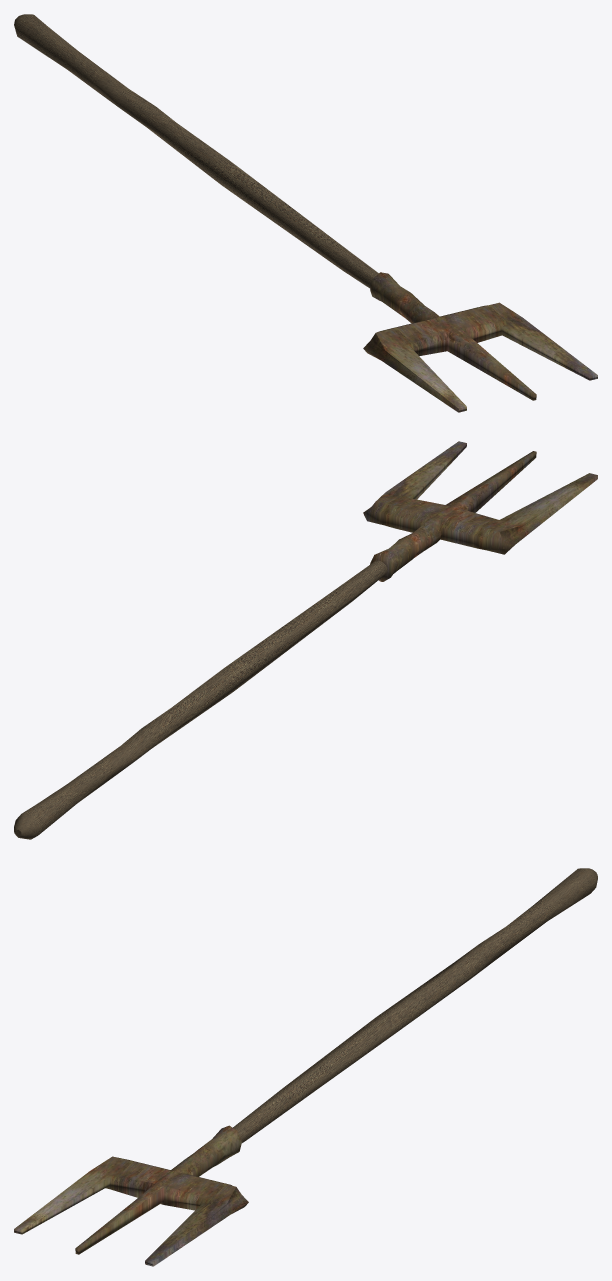
The model's file is Pitchfork.FBX.
3 views of the same model, one above another, from view 1: azimuth 30°, elevation 25°; view 2: azimuth 150°, elevation 25°; view 3: azimuth 330°, elevation 25° (orthographic).
Parts seen in each view (by area): view 1: Box016, Handle; view 2: Box016, Handle; view 3: Box016, Handle.
Part boxes in pixels (box(x1,y1,x2,y2)): Box016: box(363, 272, 597, 412); Handle: box(14, 14, 378, 288); Box016: box(363, 441, 597, 581); Handle: box(14, 560, 387, 839); Box016: box(14, 1125, 248, 1266); Handle: box(233, 868, 597, 1142).
Size of the model in its own units: 133 by 24.89 by 808.
2 materials, 2 textured.
